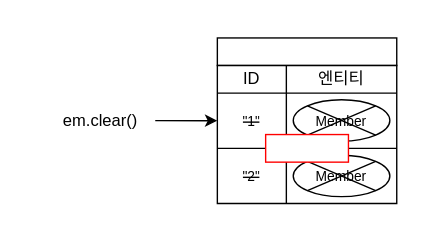
Some shapes in this 447 by 242 pixel diagram are drawn without their labels. The shapes that lost their labels are listed below. From the top down, each one's box as (x1, y1, x2, y2) in pixels, then its label:
(216, 37, 397, 66): 영속성 컨텍스트
(264, 133, 348, 162): 모두 삭제
